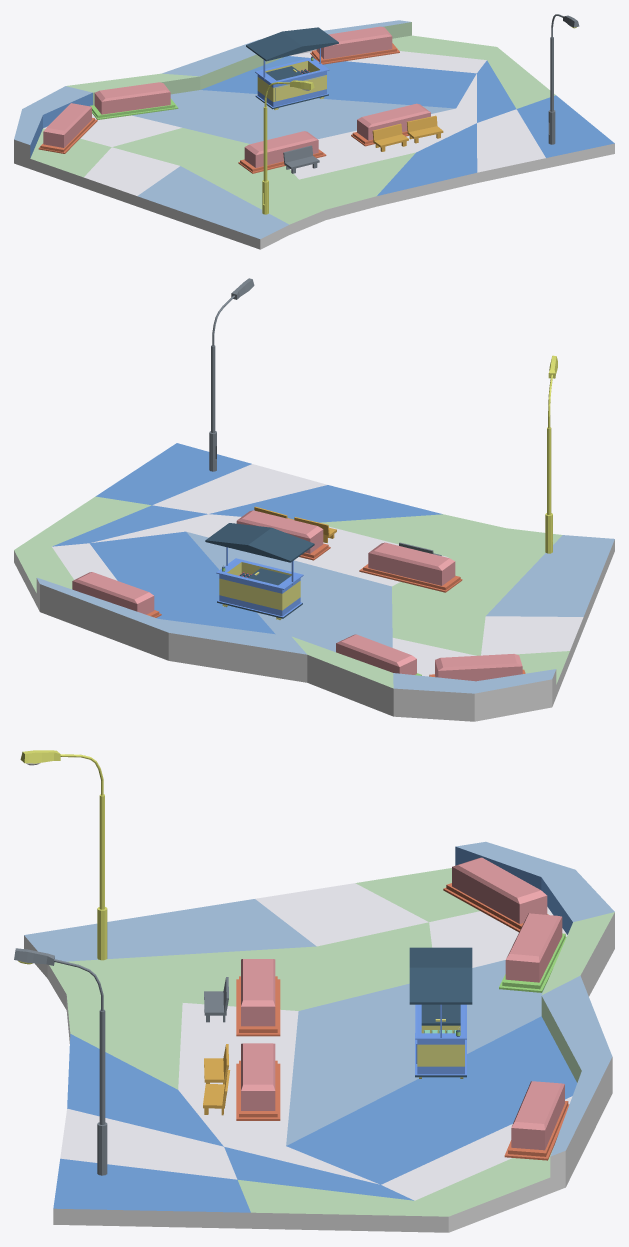
The picture shows the model from 3 angles, top to bottom: view 1: azimuth 30°, elevation 25°; view 2: azimuth 150°, elevation 25°; view 3: azimuth 270°, elevation 25°; orthographic projection. The views are drawn at different scales.
Visible parts, largest first — view 1: Cube; view 2: Cube; view 3: Cube.
Boxes of the visible parts, x1,y1,x2,y2 form: Cube: [14, 14, 614, 249]; Cube: [14, 278, 614, 721]; Cube: [14, 750, 614, 1232].
Bounding box in the file's own units: 472 × 147 × 339.
